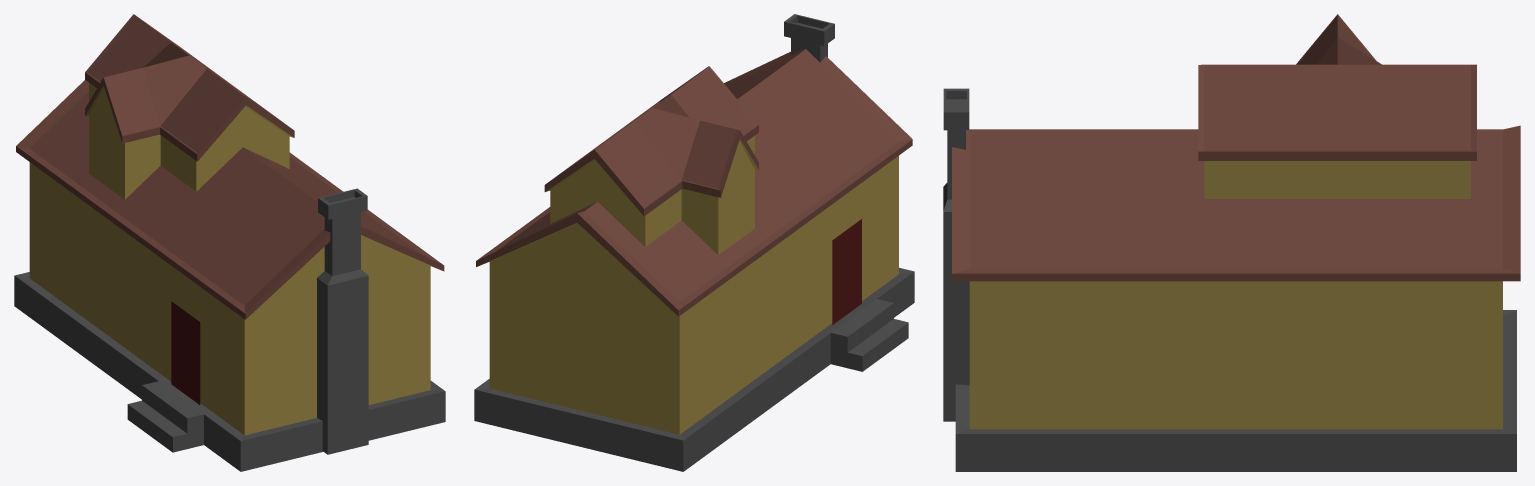
Rendered from Casa1.fbx.
3 views of the same model, side by side, from view 1: azimuth 30°, elevation 25°; view 2: azimuth 150°, elevation 25°; view 3: azimuth 270°, elevation 25° (orthographic). The views are drawn at different scales.
Parts seen in each view (by area): view 1: Casa1; view 2: Casa1; view 3: Casa1.
Boxes of the visible parts, <box> form: Casa1: <box>14,14,445,471</box>; Casa1: <box>474,14,914,471</box>; Casa1: <box>943,14,1520,471</box>.
Size of the model in its own units: 2.53 by 2.86 by 4.33.
